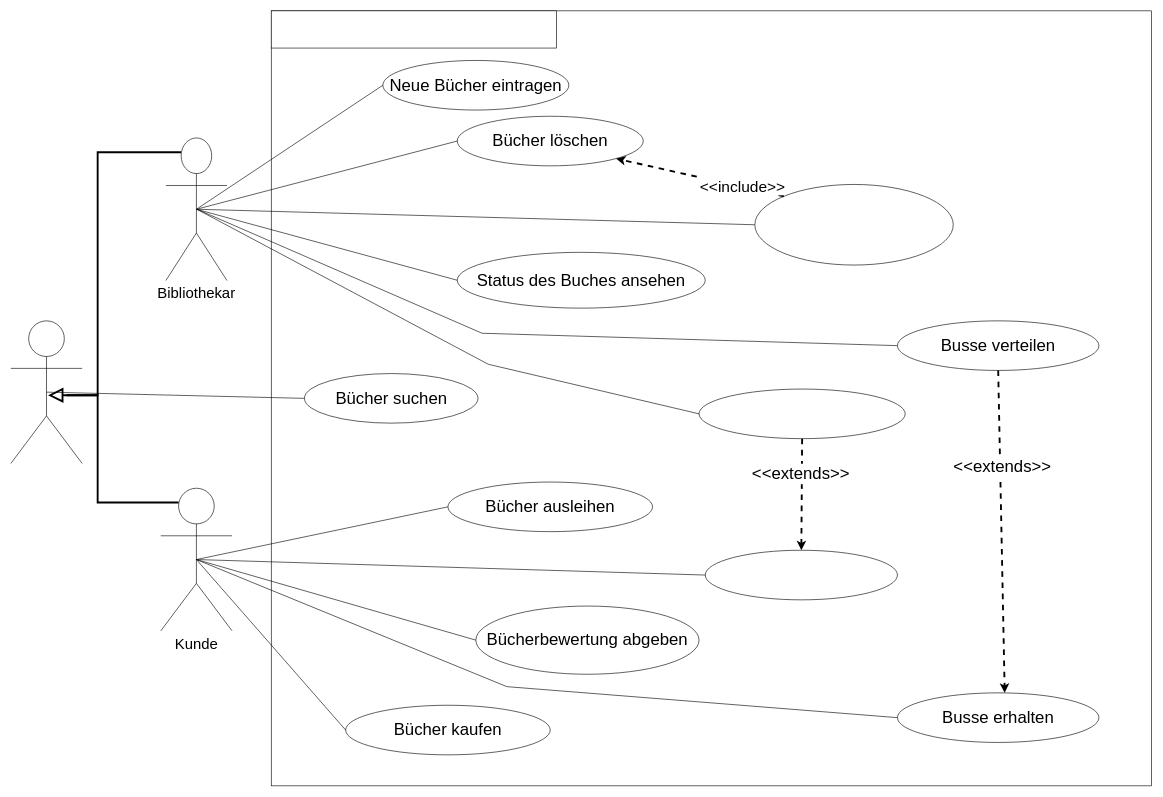
Some shapes in this 1163 by 797 pixel diagram are drawn without their labels. The shapes that lost their labels are listed below. From the top down, each one's box as (x1, y1, x2, y2) in pixels, then its label:
(271, 10, 556, 48): Bibliothekverwaltungssystem
(754, 184, 953, 265): Bücher zum Verkauf ausschreiben
(10, 320, 82, 463): Nutzer
(698, 388, 905, 439): Hausverbot verteilen
(705, 550, 897, 600): Hausverbot erhalten
